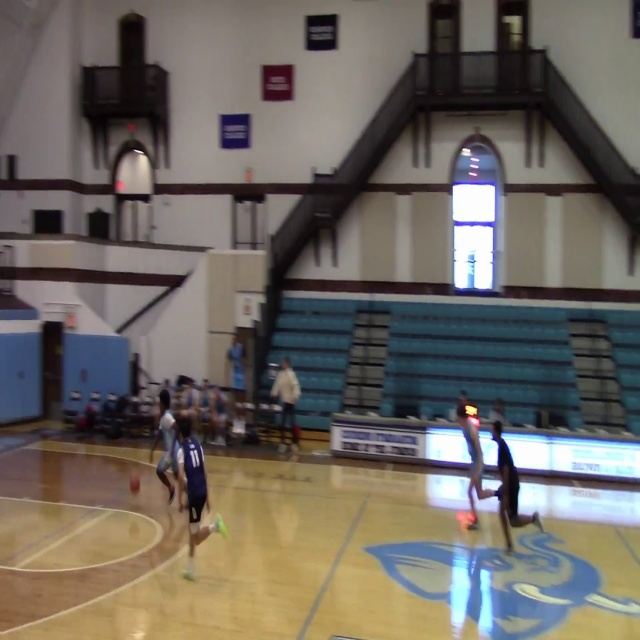Basketball: (456, 511, 476, 528), (129, 475, 140, 492), (468, 416, 480, 428)
